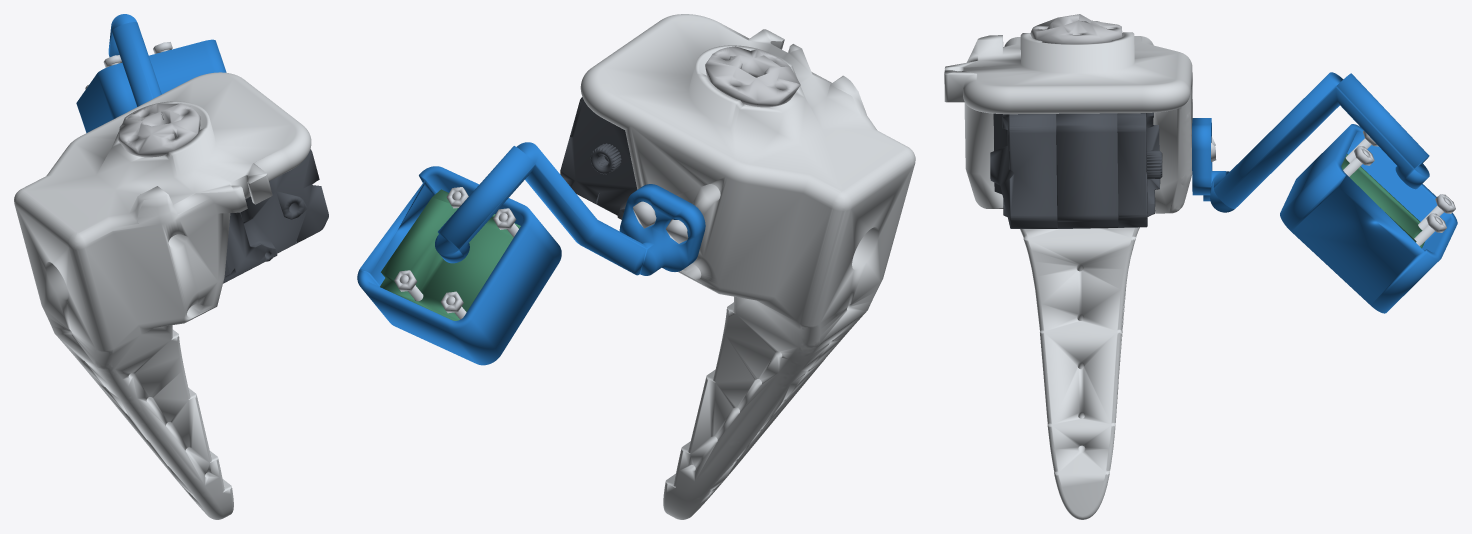
Rendered from arm_gripper.glb.
3 renders of one model, left to right at view 1: azimuth 30°, elevation 25°; view 2: azimuth 150°, elevation 25°; view 3: azimuth 270°, elevation 25°, orthographic. The views are drawn at different scales.
Parts seen in each view (by area): view 1: arm_gripper_4, arm_gripper_2, arm_gripper_5, arm_gripper_6; view 2: arm_gripper_4, arm_gripper_2, arm_gripper_0, arm_gripper_5, arm_gripper_6, arm_gripper_3; view 3: arm_gripper_4, arm_gripper_2, arm_gripper_5, arm_gripper_6, arm_gripper_3, arm_gripper_0.
Boxes of the visible parts, bbox=[...] form: arm_gripper_4: bbox=[14, 72, 311, 519]; arm_gripper_2: bbox=[76, 14, 226, 132]; arm_gripper_5: bbox=[223, 149, 328, 283]; arm_gripper_6: bbox=[118, 103, 200, 157]; arm_gripper_4: bbox=[580, 14, 915, 519]; arm_gripper_2: bbox=[357, 142, 705, 365]; arm_gripper_0: bbox=[380, 189, 520, 320]; arm_gripper_5: bbox=[560, 97, 637, 219]; arm_gripper_6: bbox=[705, 46, 800, 107]; arm_gripper_3: bbox=[394, 187, 688, 319]; arm_gripper_4: bbox=[944, 32, 1192, 519]; arm_gripper_2: bbox=[1192, 72, 1457, 313]; arm_gripper_5: bbox=[990, 112, 1162, 228]; arm_gripper_6: bbox=[1030, 14, 1122, 44]; arm_gripper_3: bbox=[1211, 131, 1455, 246]; arm_gripper_0: bbox=[1341, 154, 1424, 248].
Bounding box in the file's own units: 0.0838 × 0.1094 × 0.1083.
